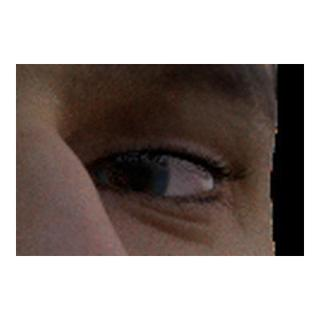pupil: (113, 158, 148, 193)
